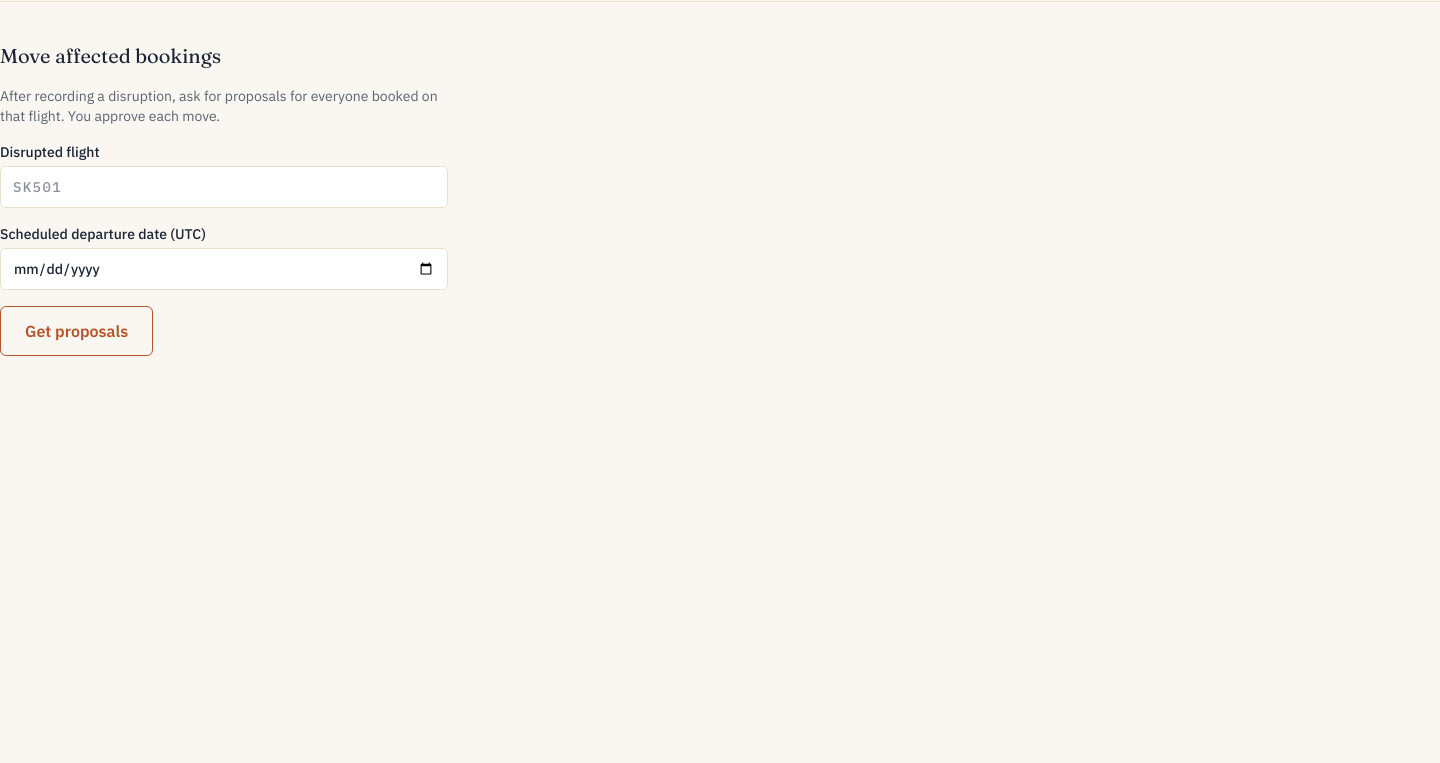
Scenario: ProposalsPanel › sends a long list in batches of fifty, one after another, and says how far it has got
The width and height of the screenshot is (1440, 763).
Submit the form named "Get proposals", box x1=0 y1=42 x2=448 y2=356
(page scrolled)
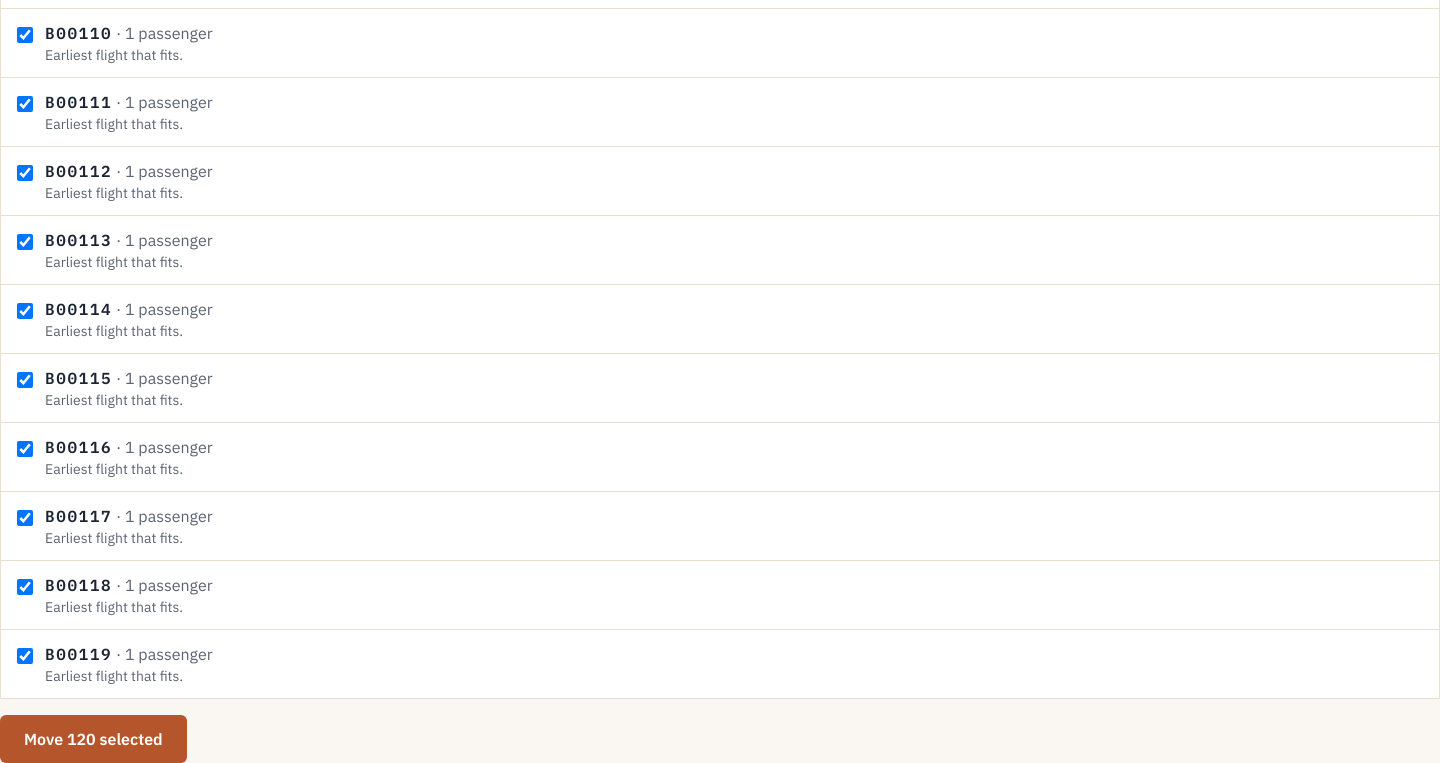
Click the button "Move 120 selected".
click(93, 739)  # box x1=0 y1=715 x2=187 y2=762
(page scrolled)
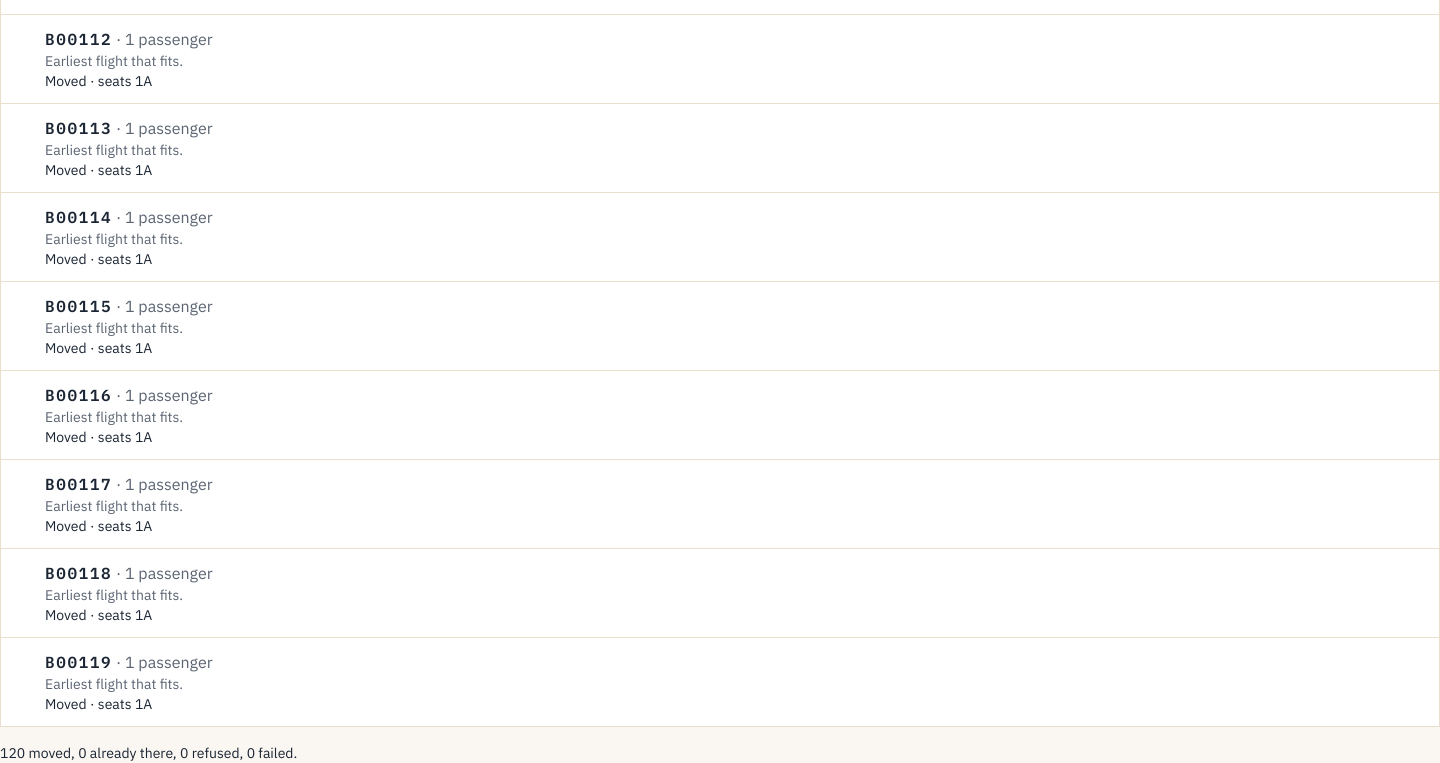
Check: the text "120 moved, 0 already there, 0 refused, 0 failed." is shown, box x1=0 y1=744 x2=297 y2=762
